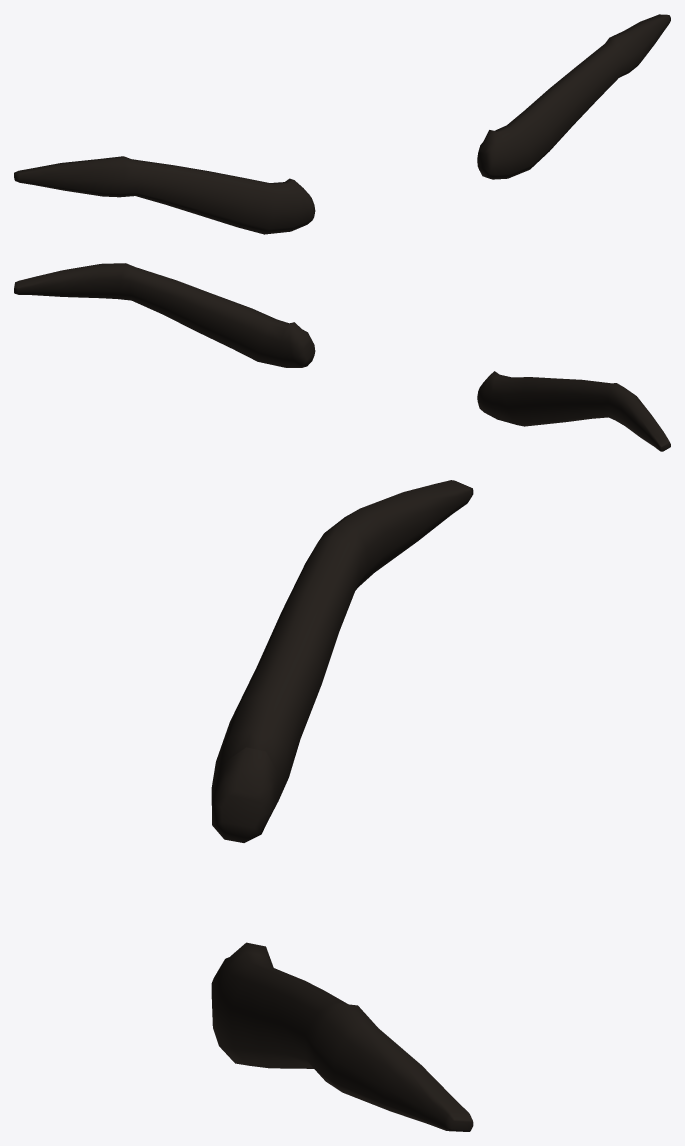
The model's file is Eyebrows_16_01.fbx.
3 views of the same model, one above another, from view 1: azimuth 30°, elevation 25°; view 2: azimuth 150°, elevation 25°; view 3: azimuth 270°, elevation 25° (orthographic). The views are drawn at different scales.
Visible parts, largest first — view 1: Eyebrows_16_01; view 2: Eyebrows_16_01; view 3: Eyebrows_16_01.
Boxes of the visible parts, <box> form: Eyebrows_16_01: <box>14,14,670,234</box>; Eyebrows_16_01: <box>14,263,670,451</box>; Eyebrows_16_01: <box>211,480,473,1131</box>.
Size of the model in its own units: 18.79 by 2.42 by 3.25.
